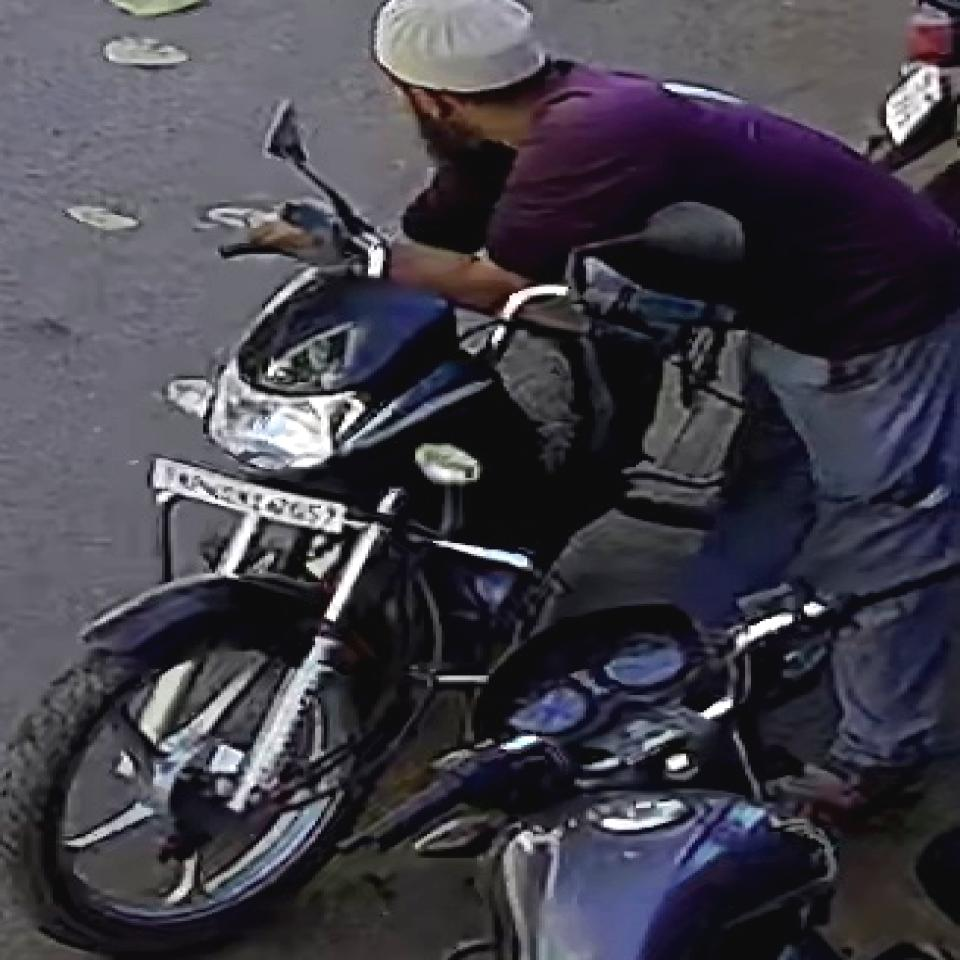head_light: (206, 376, 361, 476)
